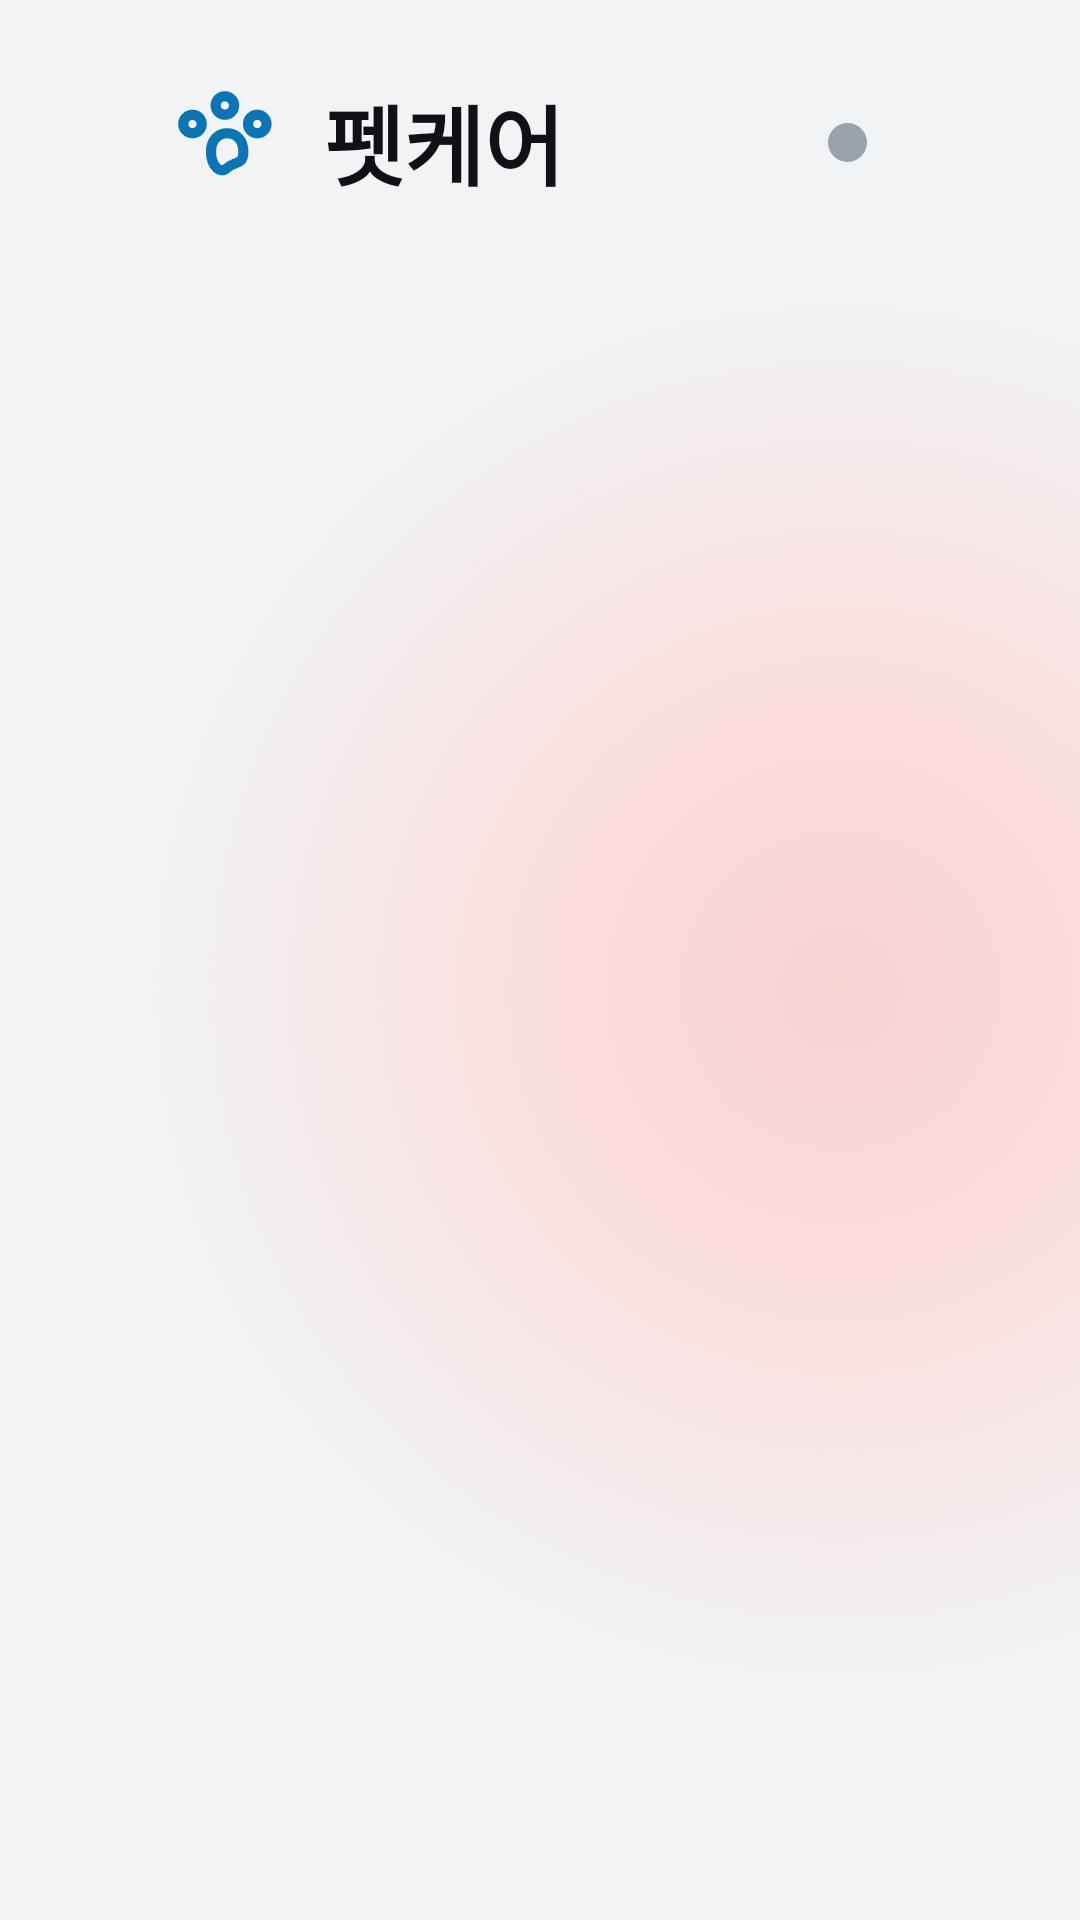

Screen size 1080px x 1920px. Icon name, then its box in pixels as (x1, y1, x2, y2):
paw: (178, 91, 272, 176)
